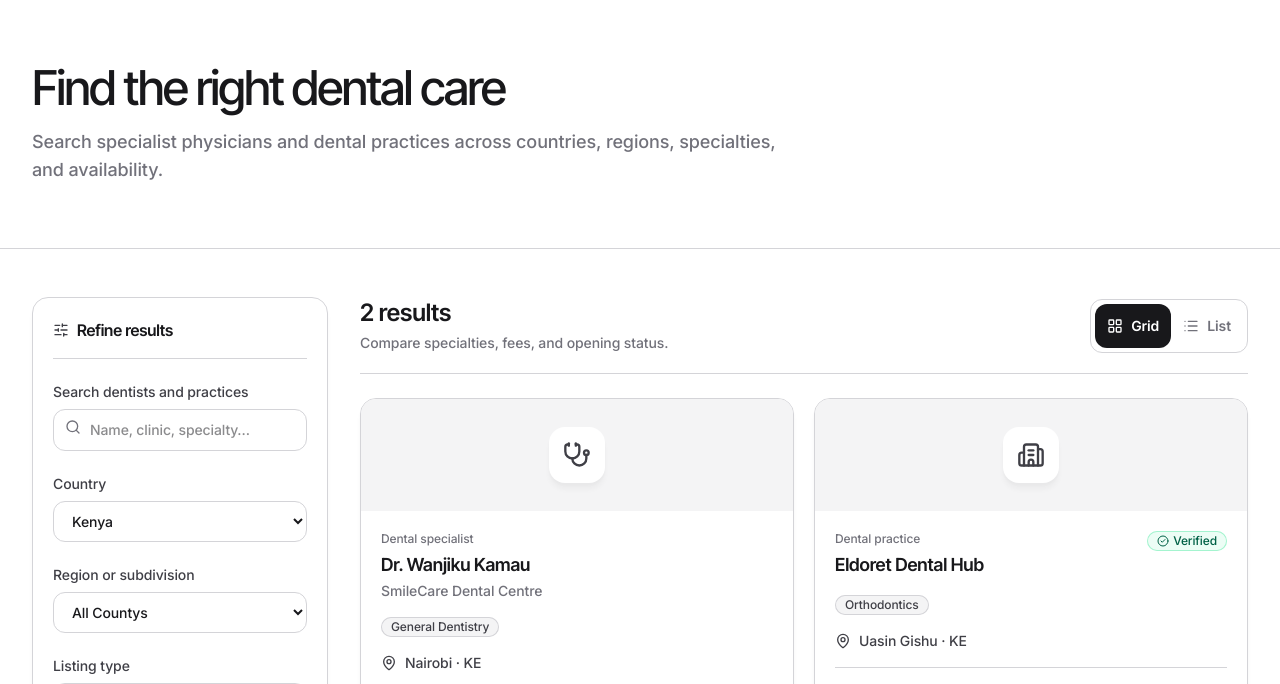
Test: FindDentist › filters in memory by free text without refetching the market
The width and height of the screenshot is (1280, 684).
Expected: the text "2 results" is shown, [360, 298, 451, 327]
Type "Wanjiku" into the search field labelled "Search dentists and practices" at point(180, 430), box [53, 409, 307, 451]
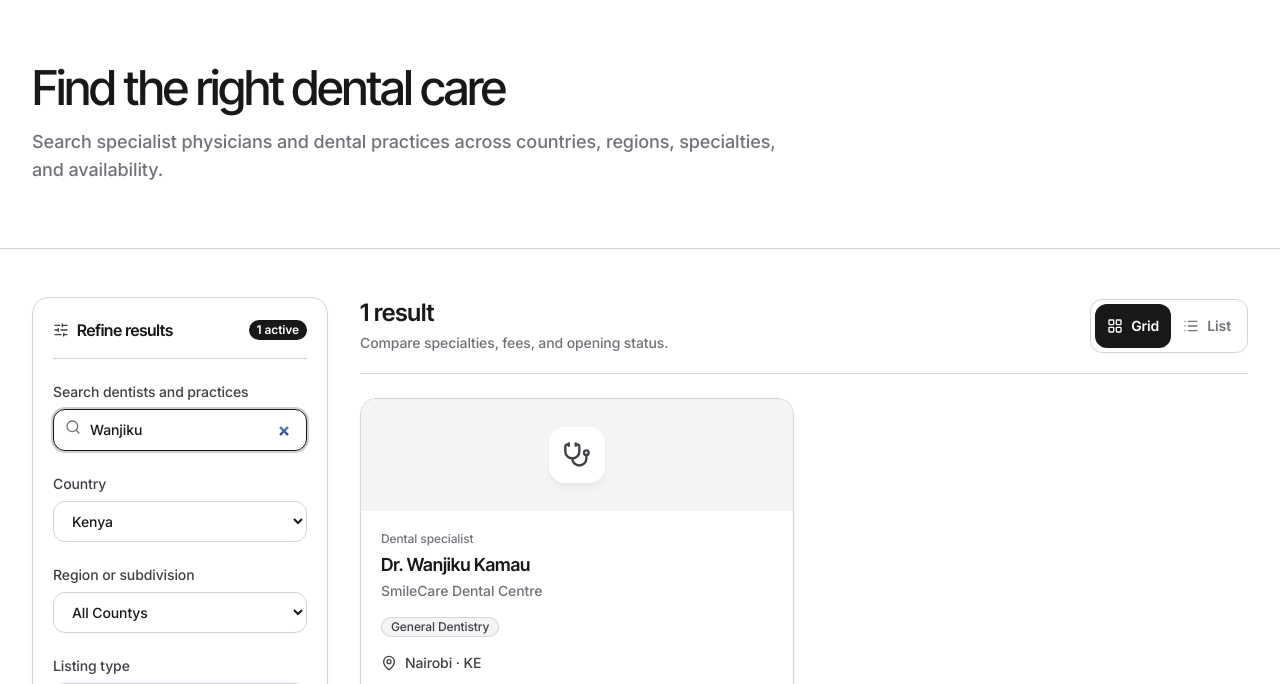
Expected: the text "1 result" is shown, [360, 298, 434, 327]
Expected: the link "Eldoret Dental Hub" is gone
